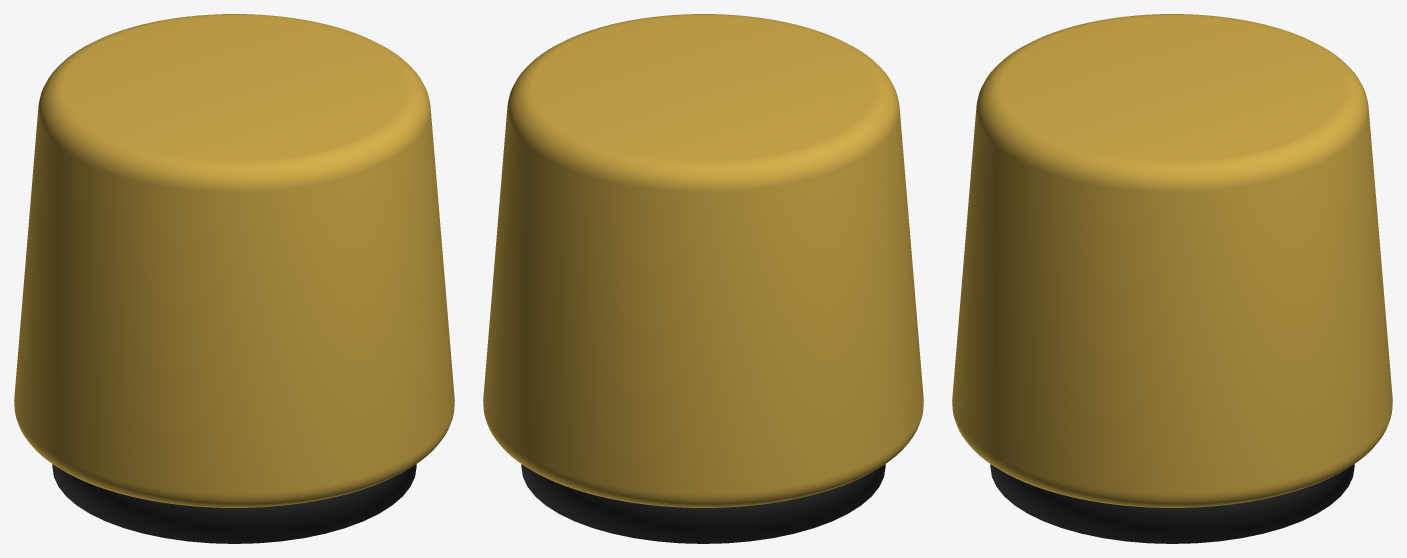
The model's file is 15_沙发墩_接待室.glb.
3 views of the same model, side by side, from view 1: azimuth 30°, elevation 25°; view 2: azimuth 150°, elevation 25°; view 3: azimuth 270°, elevation 25° (orthographic).
Visible parts, largest first — view 1: 渐收圆形软包, 底座; view 2: 渐收圆形软包, 底座; view 3: 渐收圆形软包, 底座.
Part boxes in pixels (<box>): 渐收圆形软包: <box>14,14,454,507</box>; 底座: <box>52,464,416,543</box>; 渐收圆形软包: <box>483,14,923,507</box>; 底座: <box>521,464,885,543</box>; 渐收圆形软包: <box>952,14,1392,507</box>; 底座: <box>990,464,1354,543</box>.
Size of the model in its own units: 0.4961 by 0.47 by 0.4961.
